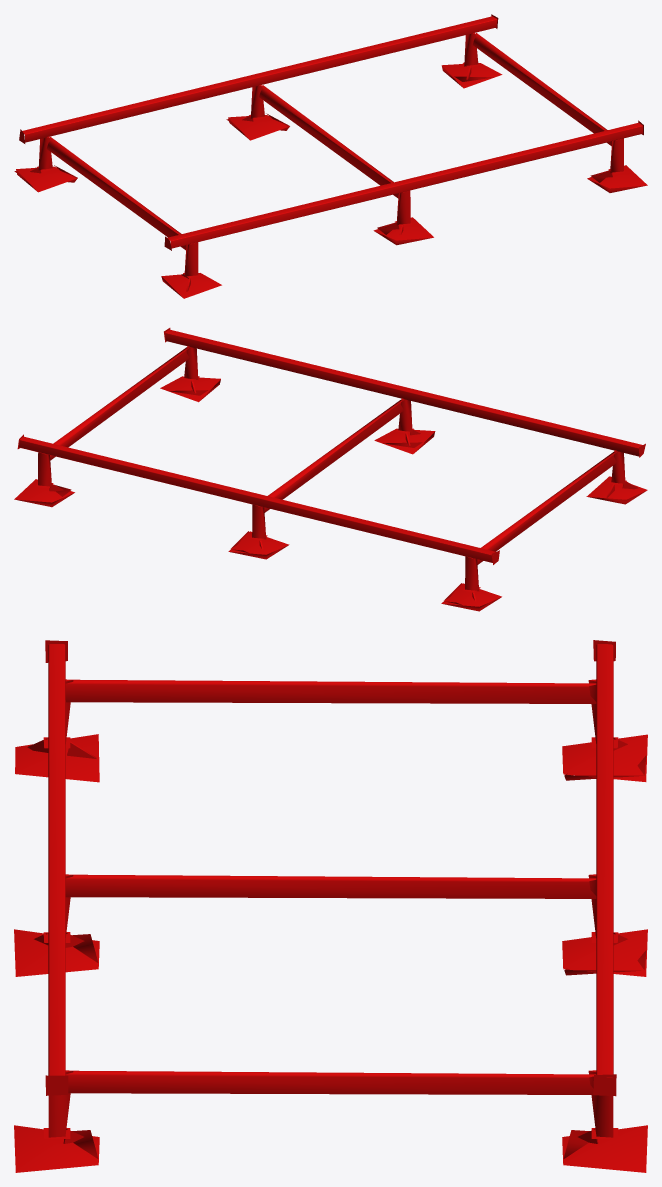
3 renders of one model, top to bottom at view 1: azimuth 30°, elevation 25°; view 2: azimuth 150°, elevation 25°; view 3: azimuth 270°, elevation 25°, orthographic. The views are drawn at different scales.
Visible parts, largest first — view 1: Mesh; view 2: Mesh; view 3: Mesh.
Boxes of the visible parts, box(x1,y1,x2,y2) form: Mesh: box(14, 14, 647, 298); Mesh: box(14, 328, 647, 611); Mesh: box(14, 640, 647, 1172).
Bounding box in the file's own units: 3.01 × 0.3283 × 1.85.
